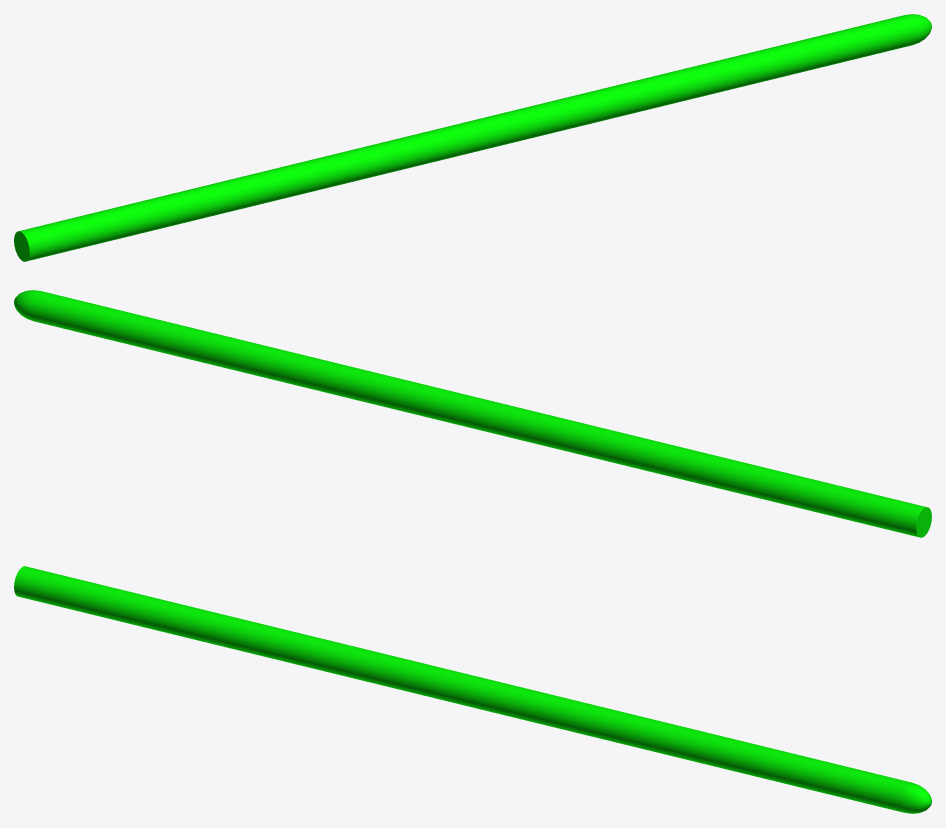
File: Saber Blade.obj
3 renders of one model, top to bottom at view 1: azimuth 30°, elevation 25°; view 2: azimuth 150°, elevation 25°; view 3: azimuth 330°, elevation 25°, orthographic.
Visible parts, largest first — view 1: pCylinder1; view 2: pCylinder1; view 3: pCylinder1.
Boxes of the visible parts, bbox=[...] form: pCylinder1: bbox=[14, 14, 931, 261]; pCylinder1: bbox=[14, 290, 931, 537]; pCylinder1: bbox=[14, 566, 931, 813].
Size of the model in its own units: 20 by 0.6 by 0.6.
